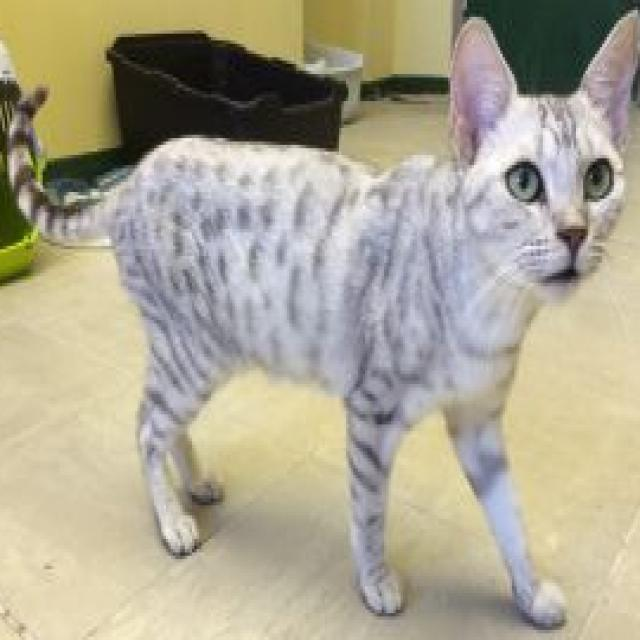Egyptian Mau: (4, 7, 640, 630)
